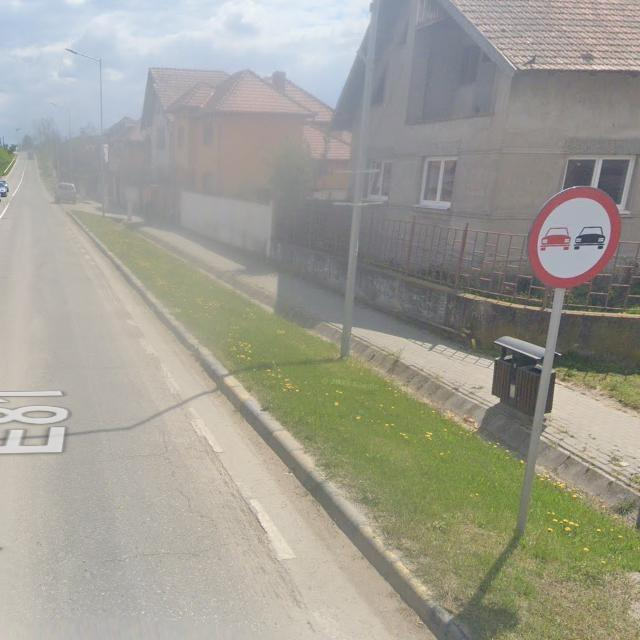forb_overtake: (528, 186, 621, 288)
